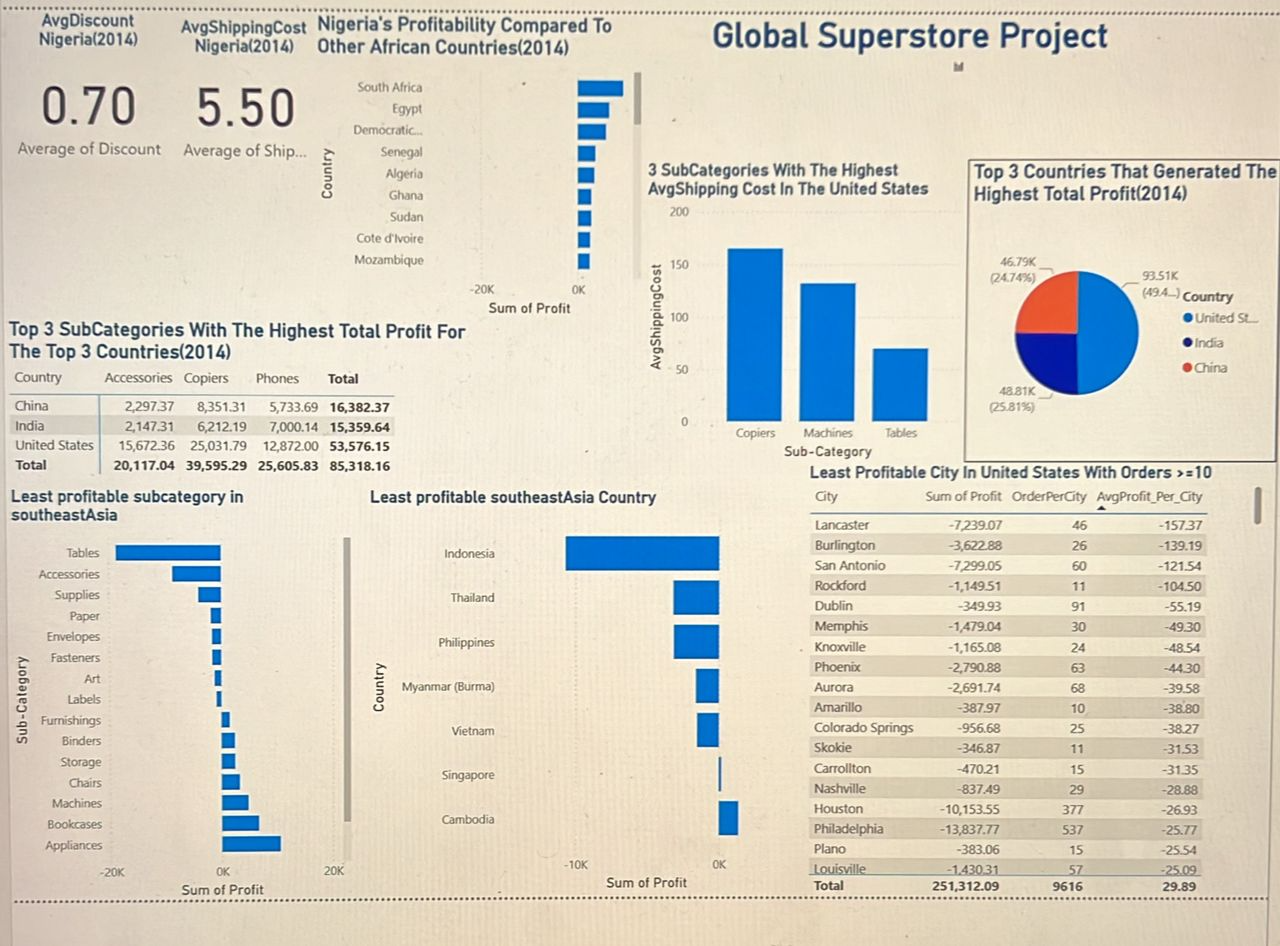

What the dashboard file says about the page in this screenshot:
{"tool":"powerbi","page":{"name":"Page 1","canvas":[1290,900],"ordinal":0},"visuals":[{"type":"pieChart","title":"Top 3 Countries That Generated The Highest Total Profit(2014)","fields":{"Category":["Orders.Country"],"Y":["Sum(Orders.Profit)"]},"box":[973.3,144,316.7,306.7],"z":0},{"type":"clusteredColumnChart","title":"3 SubCategories With The Highest AvgShipping Cost In The United States","fields":{"Category":["Orders.Sub-Category"],"Y":["Orders.AvgShippingCost"]},"box":[643.6,144,329.7,308.1],"z":1000},{"type":"clusteredBarChart","title":"Nigeria''s Profitability Compared To Other African Countries(2014)","fields":{"Category":["Orders.Country"],"Y":["Sum(Orders.Profit)"]},"box":[311,0,335.5,306.7],"z":2000},{"type":"card","title":"AvgShippingCost  Nigeria(2014)","fields":{"Values":["Avg(Orders.Shipping Cost)"]},"box":[174.2,5.8,136.8,148.3],"z":3000},{"type":"card","title":"AvgDiscount Nigeria(2014)","fields":{"Values":["Avg(Orders.Discount)"]},"box":[0,0,174.2,158.4],"z":4000},{"type":"qnaVisual","box":[0,886.9,299.5,13],"z":5000},{"type":"clusteredBarChart","title":"Least profitable subcategory in southeastAsia","fields":{"Category":["Orders.Sub-Category"],"Y":["Sum(Orders.Profit)"]},"box":[0,476.6,349.9,426.2],"z":6000},{"type":"clusteredBarChart","title":"Least profitable southeastAsia Country","fields":{"Category":["Orders.Country"],"Y":["Sum(Orders.Profit)"]},"box":[359.9,476.6,449.2,421.8],"z":7000},{"type":"tableEx","title":"Least Profitable City In United States With Orders >=10","fields":{"Values":["Orders.City","Sum(Orders.Profit)","Orders.OrderPerCity","Orders.AvgProfit_Per_City"]},"box":[810.6,450.6,470.8,452.1],"z":8000},{"type":"pivotTable","title":"Top 3 SubCategories With The Highest Total Profit For The Top 3 Countries(2014)","fields":{"Rows":["Orders.Country"],"Values":["Sum(Orders.Profit)"],"Columns":["Orders.Sub-Category"]},"box":[0,306.7,479.4,169.9],"z":9000},{"type":"clusteredBarChart","title":"Global Superstore Project","fields":{"Category":["Orders.Profit"]},"box":[708.3,0,508.2,63.3],"z":10000}]}

Visuals, with their boxes on the page's 1290x900 design canvas (x1, y1, x2, y2). These are canvas units, not pixel positions in the 1280x946 screenshot, which may show the page scaled, cropped or inside an application window:
"Top 3 Countries That Generated The Highest Total Profit(2014)" pieChart: {"x1": 973, "y1": 144, "x2": 1290, "y2": 451}
"3 SubCategories With The Highest AvgShipping Cost In The United States" clusteredColumnChart: {"x1": 644, "y1": 144, "x2": 973, "y2": 452}
"Nigeria''s Profitability Compared To Other African Countries(2014)" clusteredBarChart: {"x1": 311, "y1": 0, "x2": 646, "y2": 307}
"AvgShippingCost  Nigeria(2014)" card: {"x1": 174, "y1": 6, "x2": 311, "y2": 154}
"AvgDiscount Nigeria(2014)" card: {"x1": 0, "y1": 0, "x2": 174, "y2": 158}
qnaVisual: {"x1": 0, "y1": 887, "x2": 300, "y2": 900}
"Least profitable subcategory in southeastAsia" clusteredBarChart: {"x1": 0, "y1": 477, "x2": 350, "y2": 903}
"Least profitable southeastAsia Country" clusteredBarChart: {"x1": 360, "y1": 477, "x2": 809, "y2": 898}
"Least Profitable City In United States With Orders >=10" tableEx: {"x1": 811, "y1": 451, "x2": 1281, "y2": 903}
"Top 3 SubCategories With The Highest Total Profit For The Top 3 Countries(2014)" pivotTable: {"x1": 0, "y1": 307, "x2": 479, "y2": 477}
"Global Superstore Project" clusteredBarChart: {"x1": 708, "y1": 0, "x2": 1216, "y2": 63}
